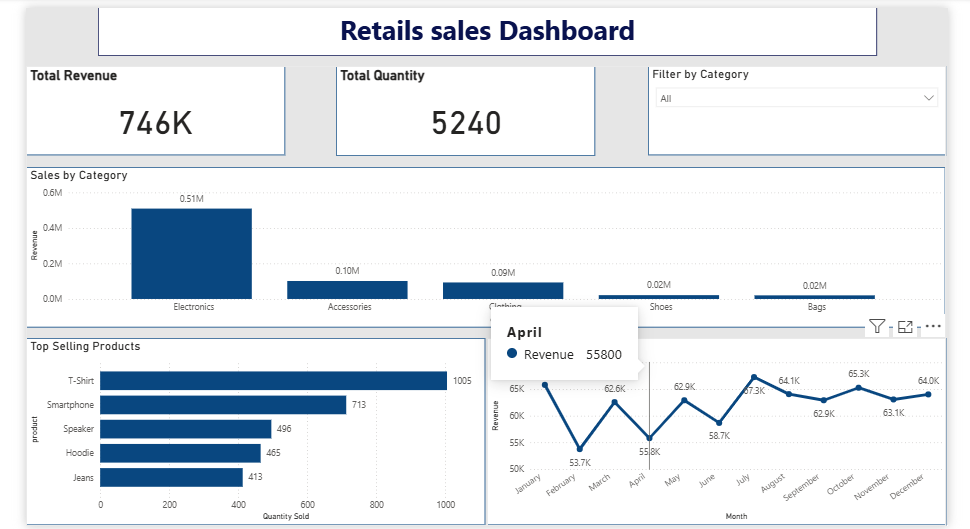

What the dashboard file says about the page in this screenshot:
{"tool":"powerbi","page":{"name":"Page 1","canvas":[1280,720],"ordinal":0},"visuals":[{"type":"group","id":"g1","title":"Group 1","box":[7,12.3,1267.1,694.7],"z":0},{"type":"cardVisual","title":"Total Revenue","fields":{"Data":["Sum(cleaned_data.revenue)"]},"box":[14.5,99.6,300,122.8],"z":0,"group":"g1"},{"type":"cardVisual","title":"Total Quantity Sold","fields":{"Data":["Sum(cleaned_data.quantity)"]},"box":[333.1,99.6,300,122.8],"z":1000,"group":"g1"},{"type":"scatterChart","fields":{"X":["cleaned_data.price"],"Y":["Sum(cleaned_data.quantity)"]},"box":[284.2,475.4,387.7,231.6],"z":1000},{"type":"clusteredColumnChart","title":"Sales by Category","fields":{"Category":["cleaned_data.category"],"Y":["Sum(cleaned_data.revenue)"]},"box":[749.1,232.9,519.3,235],"z":2000,"group":"g1"},{"type":"lineChart","fields":{"Category":["cleaned_data.date.Variation.Date Hierarchy.Month"],"Y":["Sum(cleaned_data.revenue)"]},"box":[284.2,233.3,454.4,235.1],"z":2000},{"type":"cardVisual","title":"Total Number of Orders","fields":{"Data":["cleaned_data.Total Orders"]},"box":[651.6,99.6,300,122.8],"z":3000},{"type":"clusteredBarChart","title":"Top Selling Products","fields":{"Category":["cleaned_data.product"],"Y":["Sum(cleaned_data.quantity)"]},"box":[7,231.6,266.7,475.4],"z":3000,"group":"g1"},{"type":"cardVisual","title":"Average Selling Price","fields":{"Data":["cleaned_data.Avg Price"]},"box":[970.2,100,300,122],"z":4000},{"type":"lineChart","title":"Sales Trend Over Time","fields":{"Y":["Sum(cleaned_data.revenue)"],"Category":["cleaned_data.date.Variation.Date Hierarchy.Month"]},"box":[682.8,475.5,589.5,231.6],"z":4000,"group":"g1"},{"type":"shape","box":[14,0,963.2,78.9],"z":5000},{"type":"slicer","title":"Filter by Category","fields":{"Values":["cleaned_data.category"]},"box":[975.8,12.3,298.2,66.7],"z":5000,"group":"g1"},{"type":"textbox","box":[35.1,0,870.2,78.9],"z":6000}]}

Visuals, with their boxes on the page's 1280x720 design canvas (x1, y1, x2, y2). These are canvas units, not pixel positions in the 970x529 screenshot, which may show the page scaled, cropped or inside an application window:
"Group 1" group: [x1=7, y1=12, x2=1274, y2=707]
"Total Revenue" cardVisual: [x1=14, y1=100, x2=314, y2=222]
"Total Quantity Sold" cardVisual: [x1=333, y1=100, x2=633, y2=222]
scatterChart - cleaned_data.price x Sum(cleaned_data.quantity): [x1=284, y1=475, x2=672, y2=707]
"Sales by Category" clusteredColumnChart: [x1=749, y1=233, x2=1268, y2=468]
lineChart - cleaned_data.date.Variation.Date Hierarchy.Month x Sum(cleaned_data.revenue): [x1=284, y1=233, x2=739, y2=468]
"Total Number of Orders" cardVisual: [x1=652, y1=100, x2=952, y2=222]
"Top Selling Products" clusteredBarChart: [x1=7, y1=232, x2=274, y2=707]
"Average Selling Price" cardVisual: [x1=970, y1=100, x2=1270, y2=222]
"Sales Trend Over Time" lineChart: [x1=683, y1=476, x2=1272, y2=707]
shape: [x1=14, y1=0, x2=977, y2=79]
"Filter by Category" slicer: [x1=976, y1=12, x2=1274, y2=79]
textbox: [x1=35, y1=0, x2=905, y2=79]
